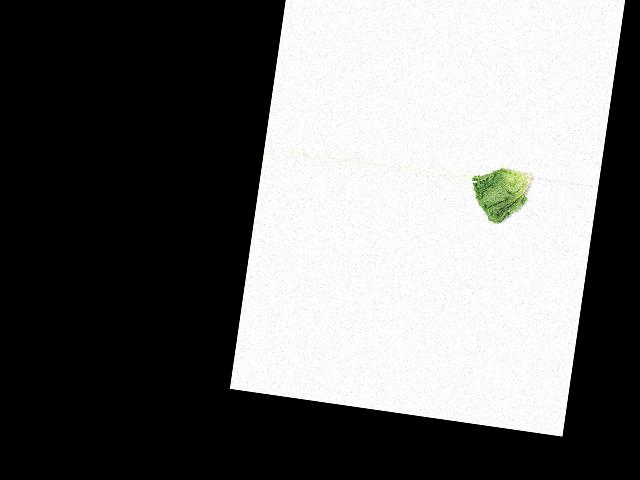lettuce: (465, 159, 536, 233)
